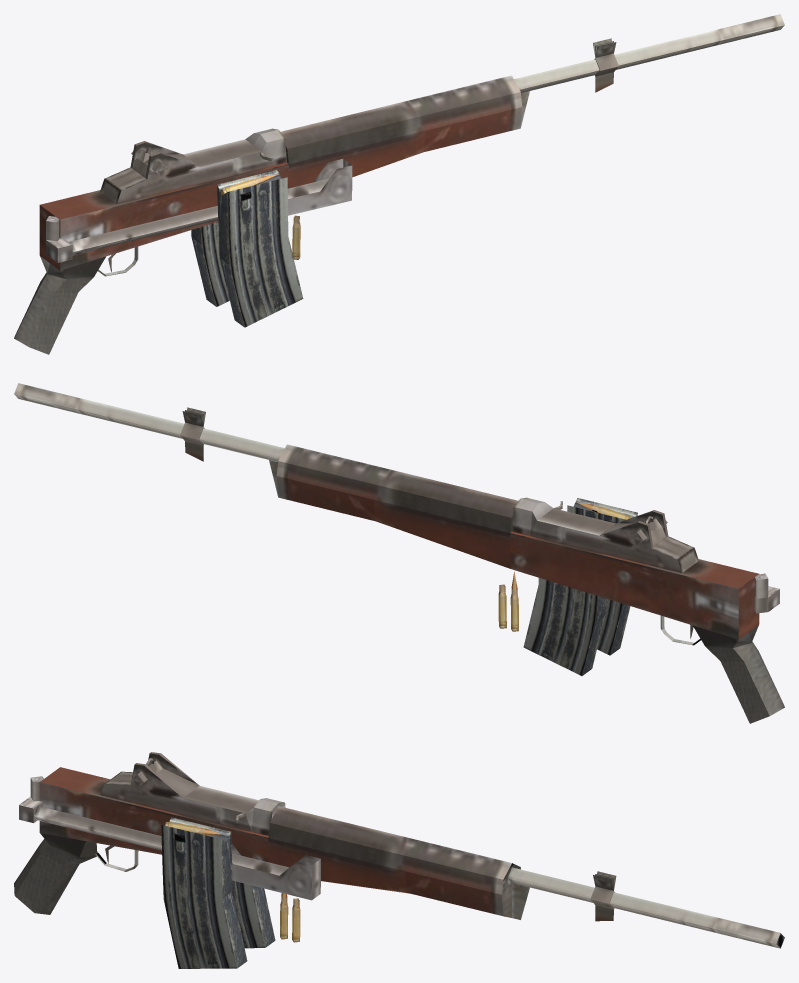
Rendered from tactical_Rifle_Stock_Folded.obj.
3 views of the same model, one above another, from view 1: azimuth 30°, elevation 25°; view 2: azimuth 150°, elevation 25°; view 3: azimuth 330°, elevation 25° (orthographic).
Parts seen in each view (by area): view 1: Tac_M14_Body.001, Tac_M14_Full_Magazene, Tac_M14_Magazene, Tac_M14_Slide; view 2: Tac_M14_Body.001, Tac_M14_Magazene, Tac_M14_Full_Magazene, Tac_M14_Slide; view 3: Tac_M14_Body.001, Tac_M14_Full_Magazene, Tac_M14_Magazene, Tac_M14_Slide.
Part boxes in pixels (x1,y1,x2,y2): Tac_M14_Body.001: (14, 14, 784, 354); Tac_M14_Full_Magazene: (217, 170, 303, 327); Tac_M14_Magazene: (191, 222, 229, 306); Tac_M14_Slide: (183, 139, 273, 166); Tac_M14_Body.001: (14, 383, 784, 723); Tac_M14_Magazene: (523, 578, 607, 675); Tac_M14_Full_Magazene: (567, 498, 637, 655); Tac_M14_Slide: (537, 501, 615, 535); Tac_M14_Body.001: (14, 752, 784, 948); Tac_M14_Full_Magazene: (161, 817, 247, 968); Tac_M14_Magazene: (232, 880, 275, 948); Tac_M14_Slide: (183, 786, 258, 823).
Size of the model in its own units: 8.63 by 1.94 by 0.8826.
Materials: 6 (6 with a texture image).
